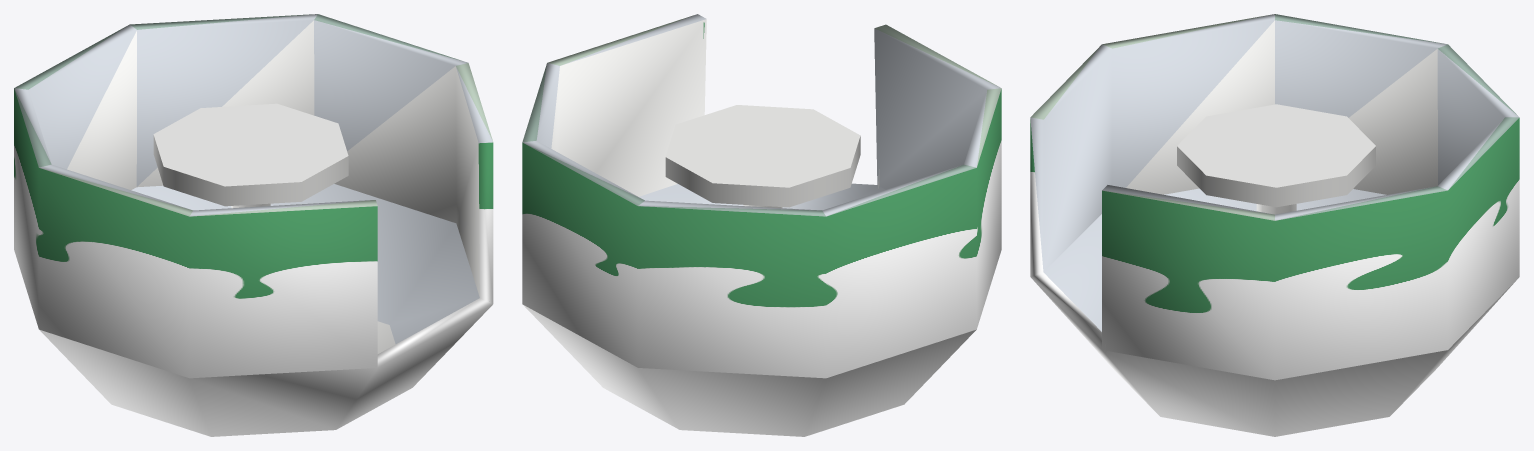
Rendered from CupTex3.glb.
3 views of the same model, side by side, from view 1: azimuth 30°, elevation 25°; view 2: azimuth 150°, elevation 25°; view 3: azimuth 270°, elevation 25° (orthographic).
Parts seen in each view (by area): view 1: CupTex3; view 2: CupTex3; view 3: CupTex3.
Part boxes in pixels (x1,y1,x2,y2): CupTex3: [14, 14, 493, 436]; CupTex3: [522, 14, 1001, 436]; CupTex3: [1030, 14, 1519, 436].
Size of the model in its own units: 2 by 1.15 by 2.
1 material, 1 textured.
